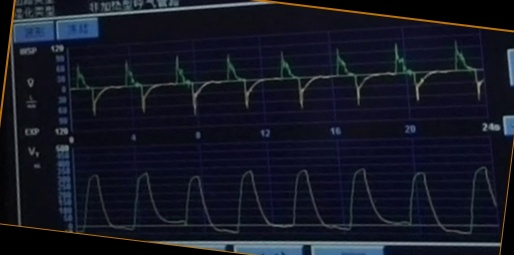Accumulation Flow: (72, 39, 484, 118)
Volume: (77, 164, 495, 236)
